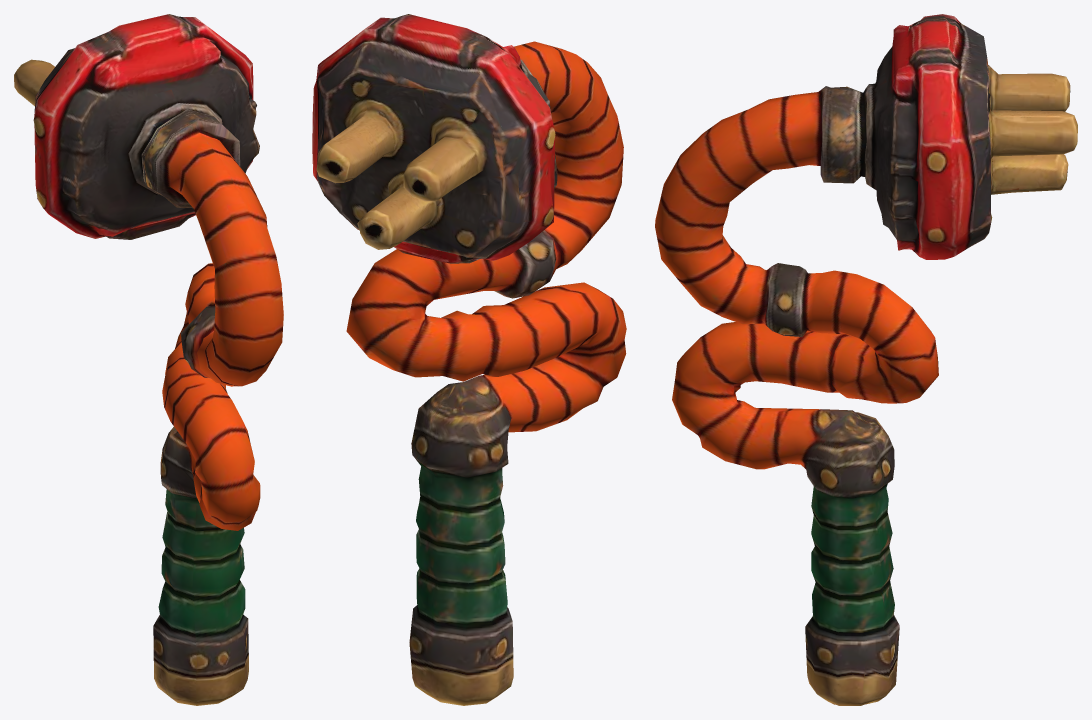
The model's file is carl-plug-whip.glb.
3 renders of one model, left to right at view 1: azimuth 30°, elevation 25°; view 2: azimuth 150°, elevation 25°; view 3: azimuth 270°, elevation 25°, orthographic. The views are drawn at different scales.
Visible parts, largest first — view 1: model; view 2: model; view 3: model.
Boxes of the visible parts, <box> form: model: <box>14,14,283,705</box>; model: <box>312,14,626,705</box>; model: <box>655,14,1077,705</box>.
Bounding box in the file's own units: 0.3482 × 1 × 0.5843.
1 material, 1 textured.
